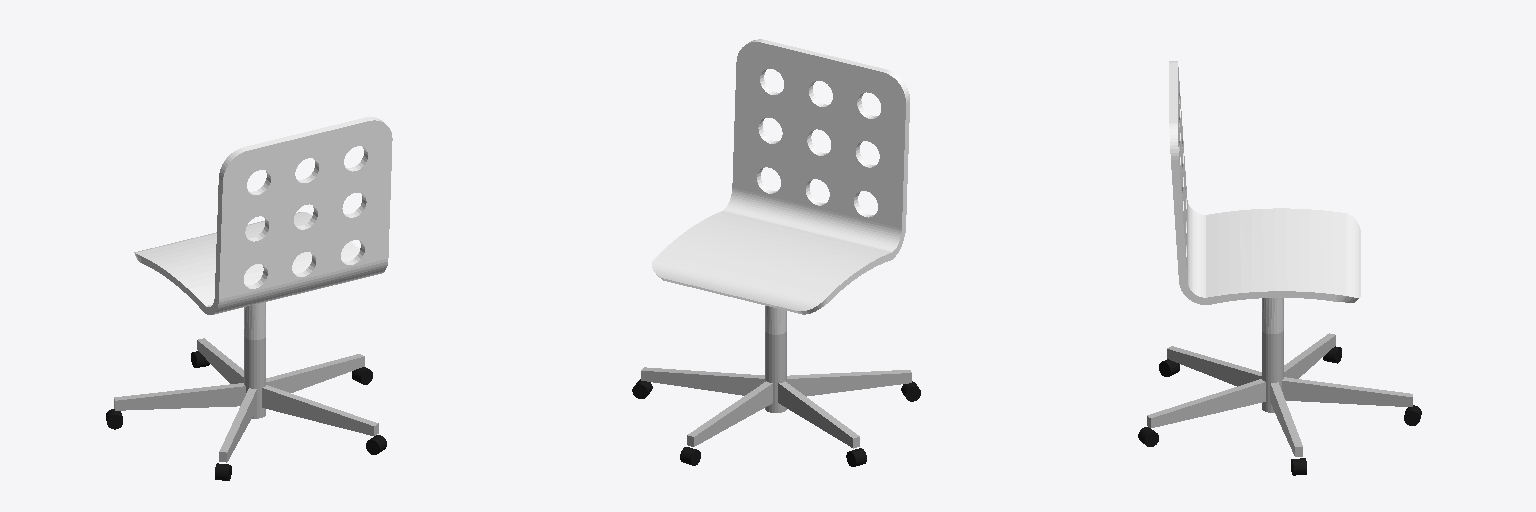
3 views of the same model, side by side, from view 1: azimuth 30°, elevation 25°; view 2: azimuth 150°, elevation 25°; view 3: azimuth 270°, elevation 25° (orthographic).
Visible parts, largest first — view 1: Mesh1 Group2 Group1 Model, Mesh7 Group6 Group3 ske3F1 Group1 Model, Mesh5 Group5 Group3 ske3F1 Group1 Model, Mesh12 Group3 ske3F1 Group1 Model, Mesh11 Group8 Group3 ske3F1 Group1 Model, Mesh9 Group7 Group3 ske3F1 Group1 Model, Mesh3 Group4 Group3 ske3F1 Group1 Model; view 2: Mesh1 Group2 Group1 Model, Mesh9 Group7 Group3 ske3F1 Group1 Model, Mesh11 Group8 Group3 ske3F1 Group1 Model, Mesh12 Group3 ske3F1 Group1 Model, Mesh3 Group4 Group3 ske3F1 Group1 Model, Mesh7 Group6 Group3 ske3F1 Group1 Model; view 3: Mesh1 Group2 Group1 Model, Mesh3 Group4 Group3 ske3F1 Group1 Model, Mesh5 Group5 Group3 ske3F1 Group1 Model, Mesh12 Group3 ske3F1 Group1 Model, Mesh9 Group7 Group3 ske3F1 Group1 Model, Mesh11 Group8 Group3 ske3F1 Group1 Model, Mesh7 Group6 Group3 ske3F1 Group1 Model.
Boxes of the visible parts, x1=… form: Mesh1 Group2 Group1 Model: x1=134, y1=117, x2=392, y2=314; Mesh7 Group6 Group3 ske3F1 Group1 Model: x1=114, y1=383, x2=245, y2=410; Mesh5 Group5 Group3 ske3F1 Group1 Model: x1=262, y1=385, x2=378, y2=435; Mesh12 Group3 ske3F1 Group1 Model: x1=244, y1=302, x2=265, y2=418; Mesh11 Group8 Group3 ske3F1 Group1 Model: x1=266, y1=354, x2=364, y2=392; Mesh9 Group7 Group3 ske3F1 Group1 Model: x1=219, y1=388, x2=256, y2=462; Mesh3 Group4 Group3 ske3F1 Group1 Model: x1=197, y1=338, x2=243, y2=383; Mesh1 Group2 Group1 Model: x1=652, y1=39, x2=909, y2=314; Mesh9 Group7 Group3 ske3F1 Group1 Model: x1=787, y1=370, x2=911, y2=396; Mesh11 Group8 Group3 ske3F1 Group1 Model: x1=641, y1=367, x2=764, y2=395; Mesh12 Group3 ske3F1 Group1 Model: x1=765, y1=306, x2=786, y2=412; Mesh3 Group4 Group3 ske3F1 Group1 Model: x1=687, y1=381, x2=772, y2=446; Mesh7 Group6 Group3 ske3F1 Group1 Model: x1=778, y1=381, x2=859, y2=448; Mesh1 Group2 Group1 Model: x1=1169, y1=61, x2=1360, y2=304; Mesh3 Group4 Group3 ske3F1 Group1 Model: x1=1282, y1=377, x2=1412, y2=406; Mesh5 Group5 Group3 ske3F1 Group1 Model: x1=1147, y1=379, x2=1265, y2=427; Mesh12 Group3 ske3F1 Group1 Model: x1=1262, y1=298, x2=1283, y2=412; Mesh9 Group7 Group3 ske3F1 Group1 Model: x1=1167, y1=346, x2=1261, y2=386; Mesh11 Group8 Group3 ske3F1 Group1 Model: x1=1270, y1=382, x2=1302, y2=456; Mesh7 Group6 Group3 ske3F1 Group1 Model: x1=1284, y1=333, x2=1335, y2=378.
Bounding box in the file's own units: 0.5469 × 0.6816 × 0.5414.